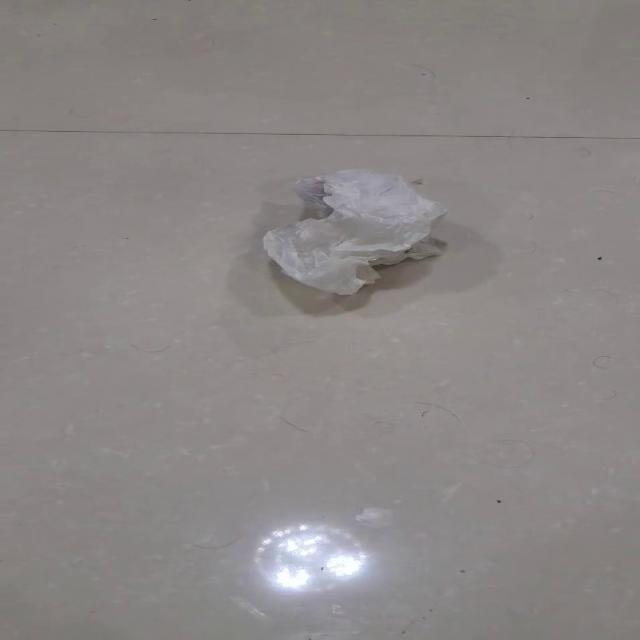plastic: (260, 167, 447, 296)
